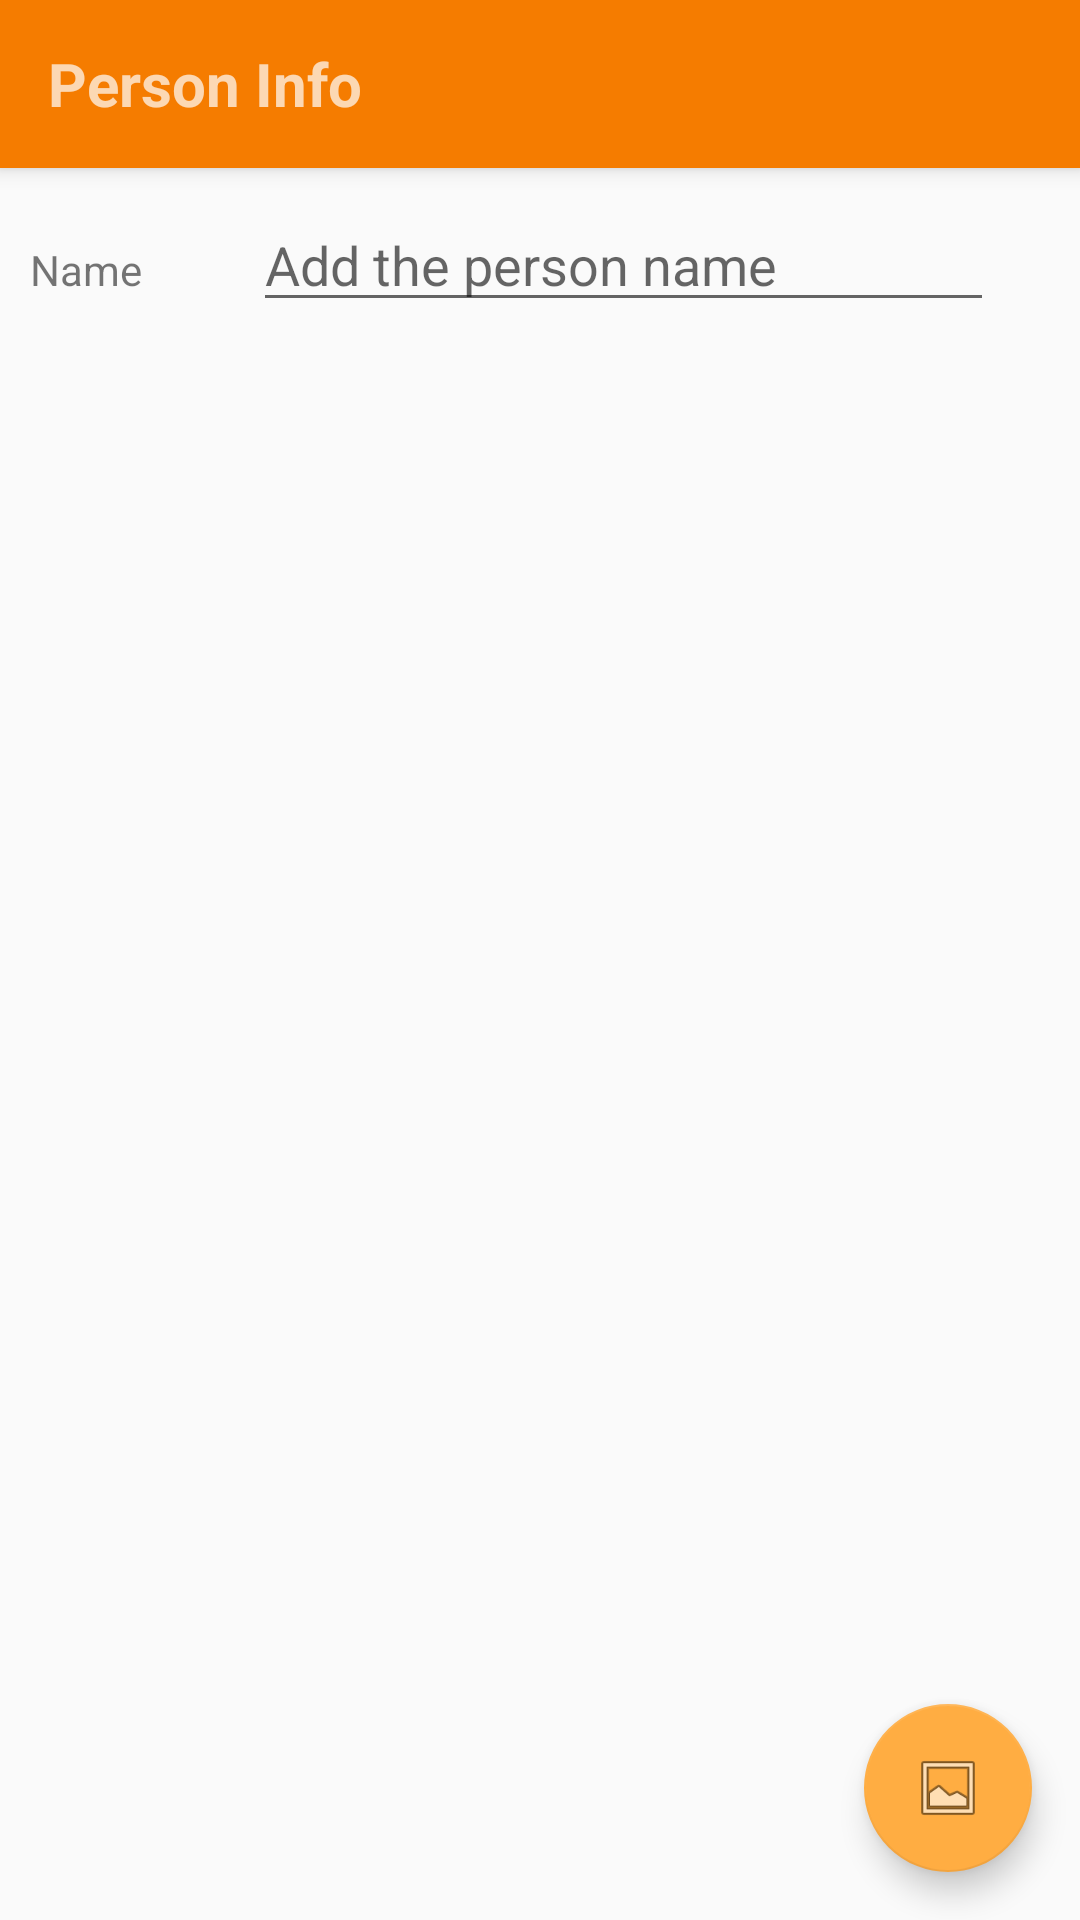

Screen size 1080×1920. Icon name, then its box in pixels as (x1, y1, x2, y2):
gallery: (864, 1704, 1032, 1872)
